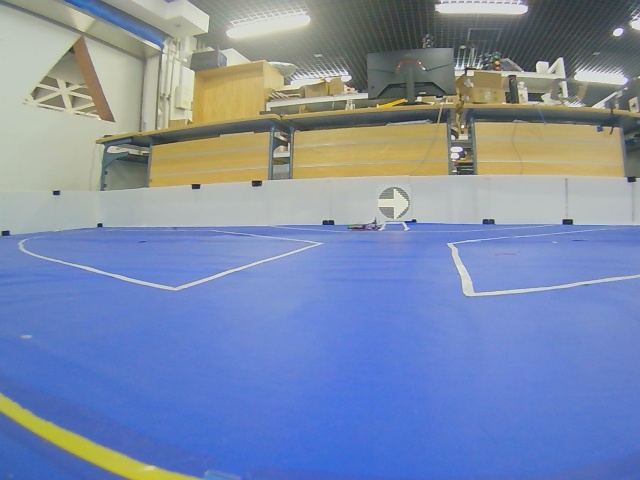right_yellow: (378, 187, 410, 220)
